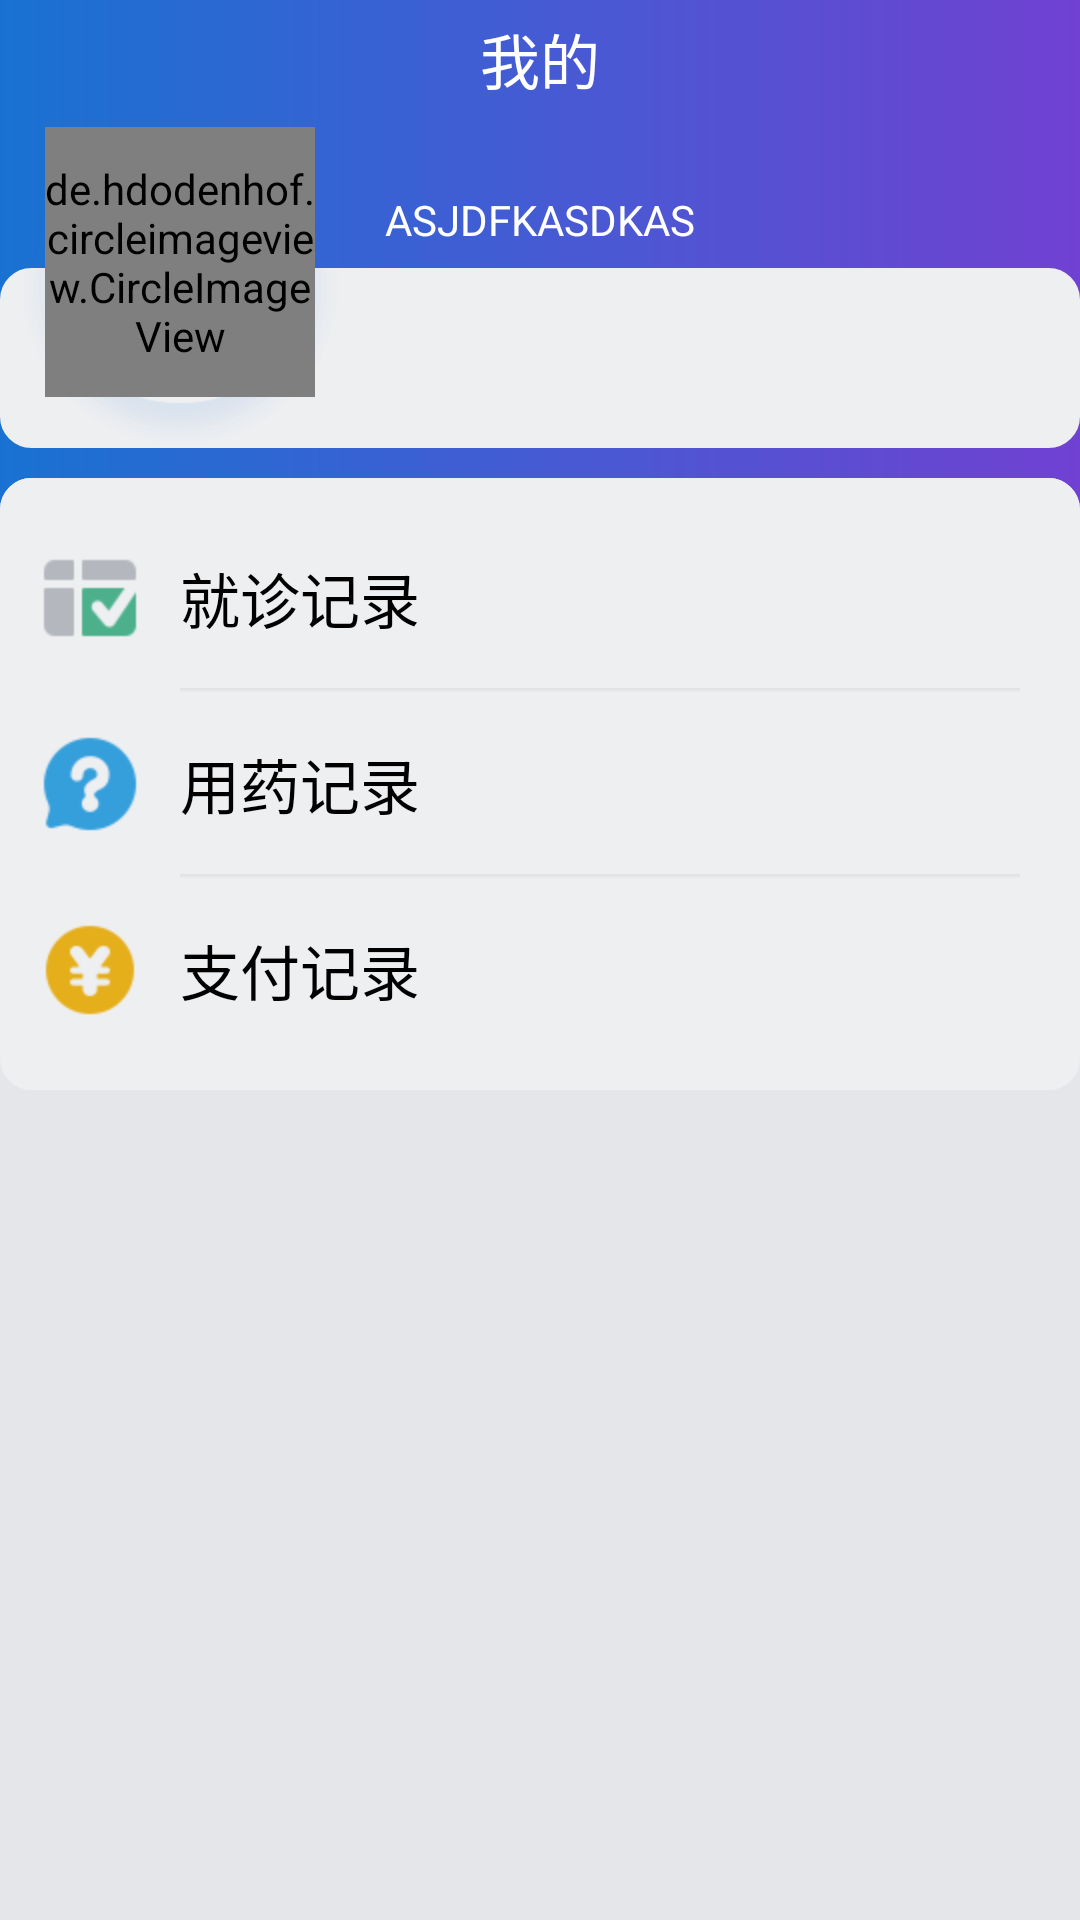

Named icons in this screenshot (1080×1920) and their bounding boxes, [x1, y1, x2, y2]:
infos appointment record: [44, 560, 137, 637]
infos consult: [43, 737, 137, 831]
infos pay record: [45, 925, 135, 1015]
